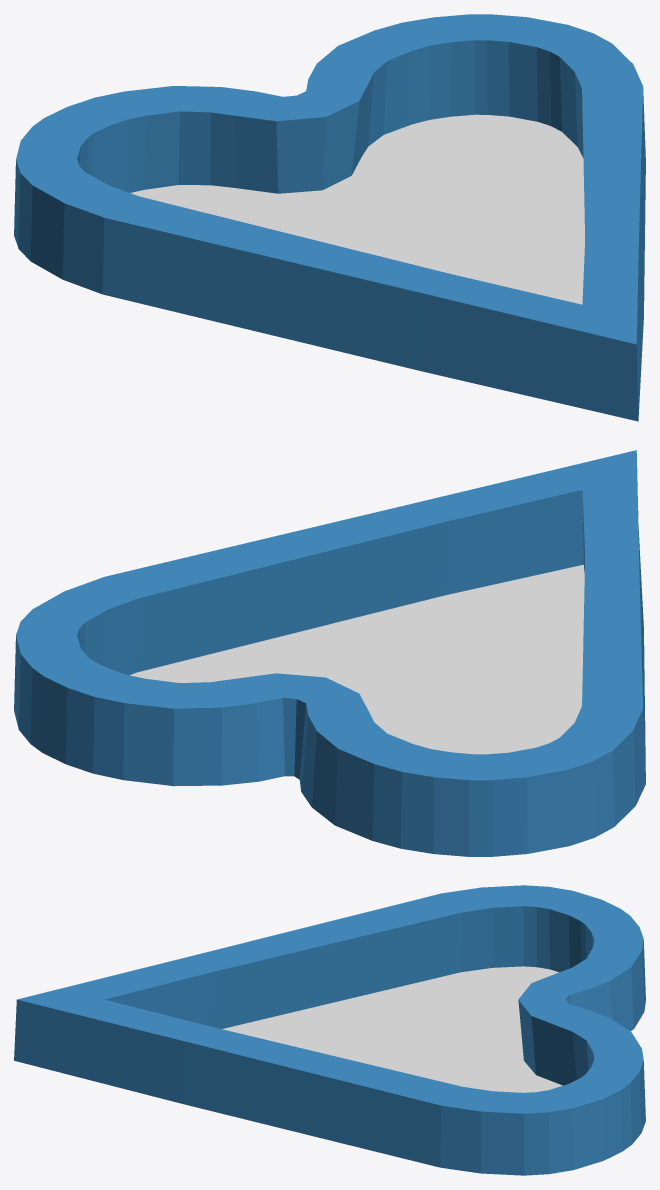
The model's file is stations_station_heart.fbx.
The picture shows the model from 3 angles, top to bottom: view 1: azimuth 30°, elevation 25°; view 2: azimuth 150°, elevation 25°; view 3: azimuth 270°, elevation 25°; orthographic projection. The views are drawn at different scales.
Visible parts, largest first — view 1: station_heart; view 2: station_heart; view 3: station_heart.
Boxes of the visible parts, x1,y1,x2,y2 form: station_heart: (14, 14, 645, 421); station_heart: (14, 450, 645, 856); station_heart: (14, 885, 645, 1175).
Bounding box in the file's own units: 0.8026 × 0.0996 × 0.9324.
